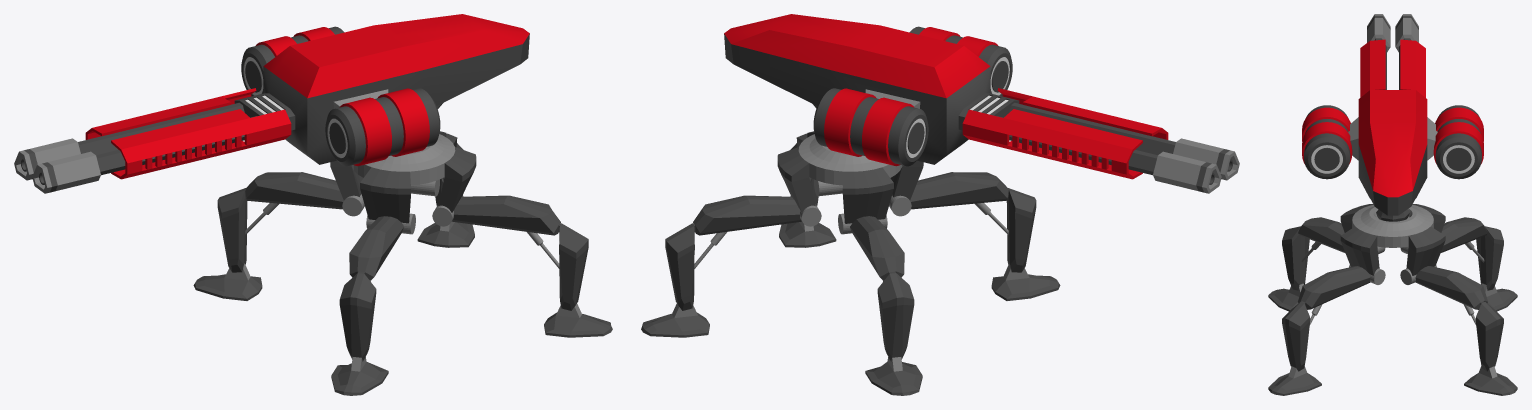
The model's file is turret (1) 1.fbx.
3 renders of one model, left to right at view 1: azimuth 30°, elevation 25°; view 2: azimuth 150°, elevation 25°; view 3: azimuth 270°, elevation 25°, orthographic. The views are drawn at different scales.
Parts seen in each view (by area): view 1: turret body, legs, barrels; view 2: turret body, legs, barrels; view 3: legs, turret body, barrels.
Boxes of the visible parts, x1=… form: turret body: x1=85, y1=14, x2=529, y2=179; legs: x1=193, y1=131, x2=612, y2=395; barrels: x1=14, y1=102, x2=257, y2=193; turret body: x1=724, y1=14, x2=1168, y2=179; legs: x1=641, y1=131, x2=1060, y2=395; barrels: x1=996, y1=102, x2=1239, y2=193; legs: x1=1268, y1=204, x2=1517, y2=395; turret body: x1=1302, y1=39, x2=1483, y2=221; barrels: x1=1367, y1=14, x2=1418, y2=89.
Size of the model in its own units: 135 by 69.42 by 72.91.
